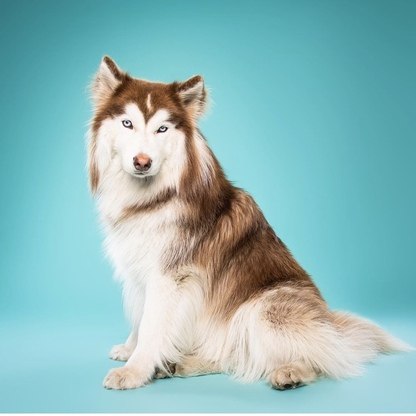husky: (79, 51, 416, 395)
